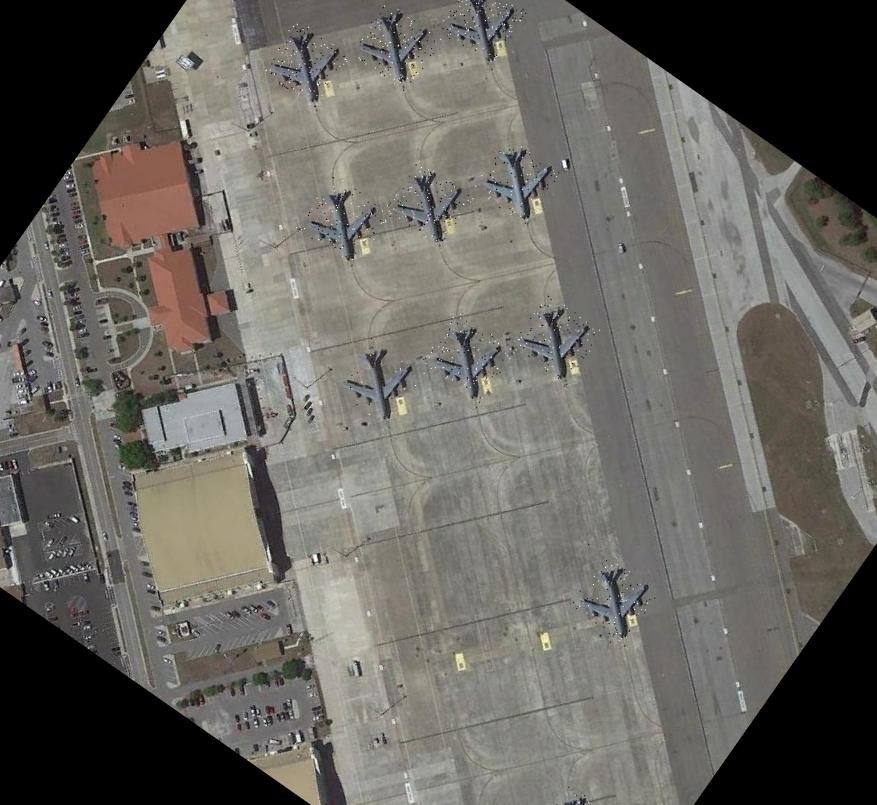A14: (295, 172, 391, 268), (328, 332, 424, 427), (509, 292, 603, 385), (421, 310, 514, 402), (349, 0, 442, 91), (258, 18, 350, 108), (568, 554, 660, 644), (384, 159, 474, 247), (471, 136, 560, 224), (435, 0, 526, 66), (529, 782, 623, 805)
